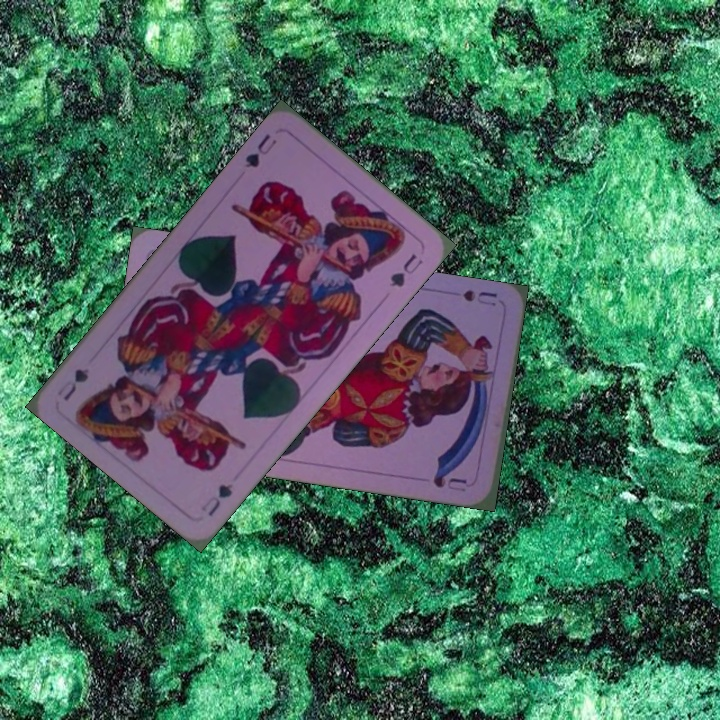GU: (196, 479, 236, 520), (241, 129, 280, 171)
SU: (456, 286, 500, 309)
